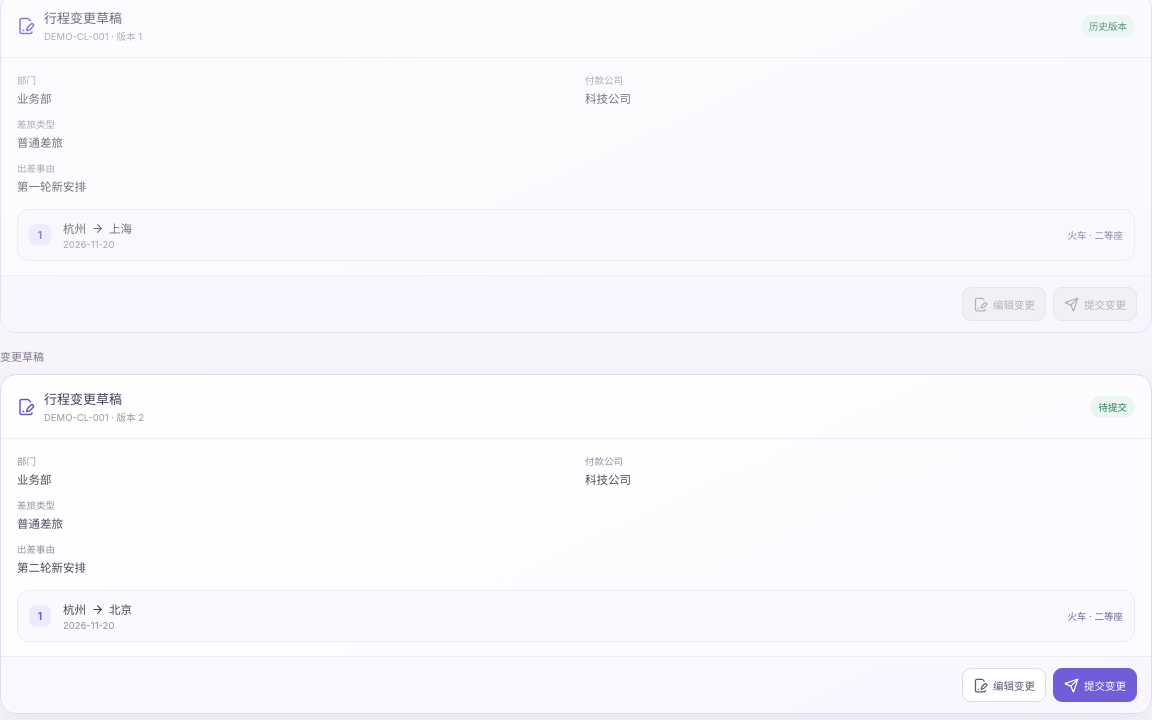
Test case: 语义单据卡片 › 草稿组显示 payload 新安排，历史快照只读且当前草稿仍能继续编辑
The width and height of the screenshot is (1152, 720).
(page scrolled)
expect the text "第二轮新安排" is shown: met, box x1=17 y1=561 x2=86 y2=575
expect the text "北京" is shown: met, box x1=109 y1=601 x2=132 y2=617
Step 1. Click the button "编辑变更" below "待提交" → (1004, 685), box x1=962 y1=668 x2=1046 y2=702
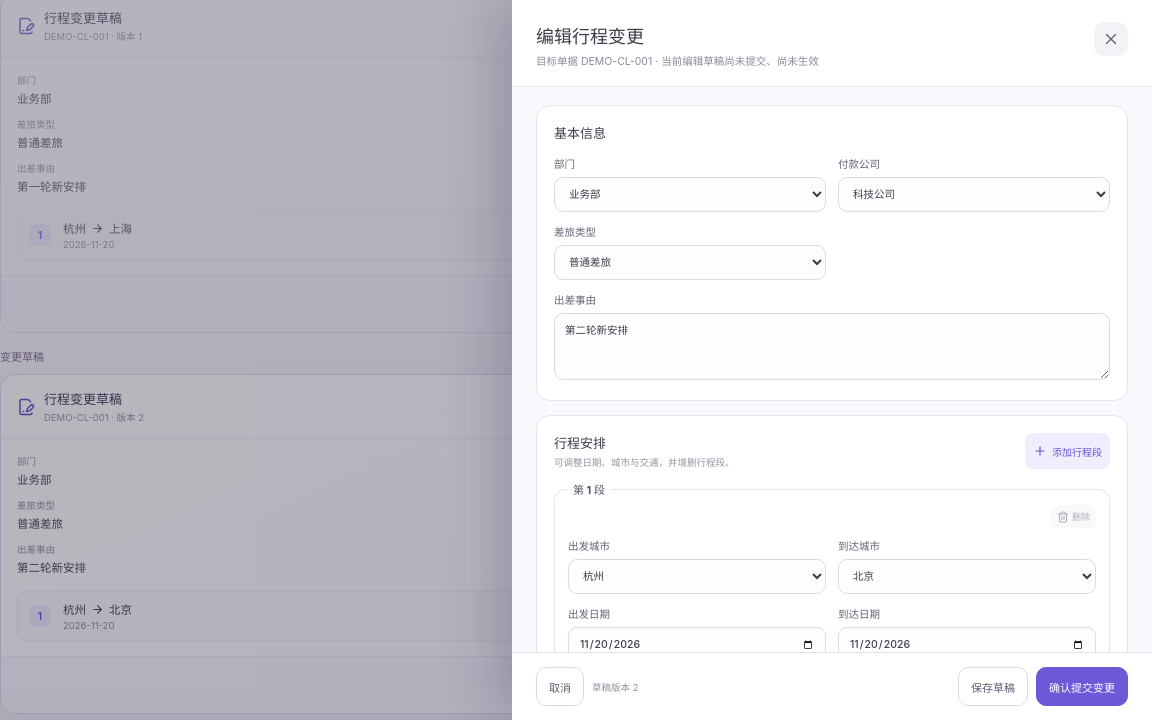
expect the text box labelled "出差事由" holds "第二轮新安排": met, box x1=554 y1=313 x2=1110 y2=380
